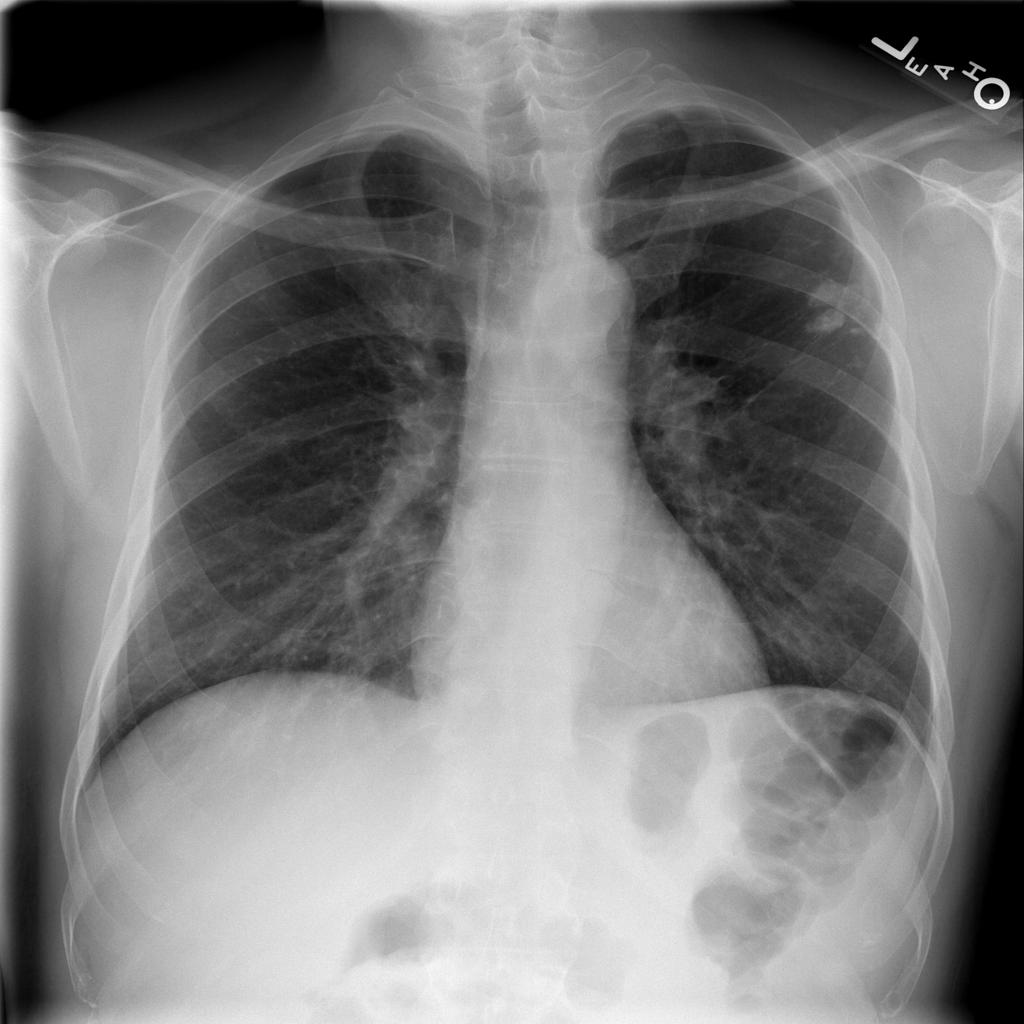nodule: (785, 277, 868, 344)
